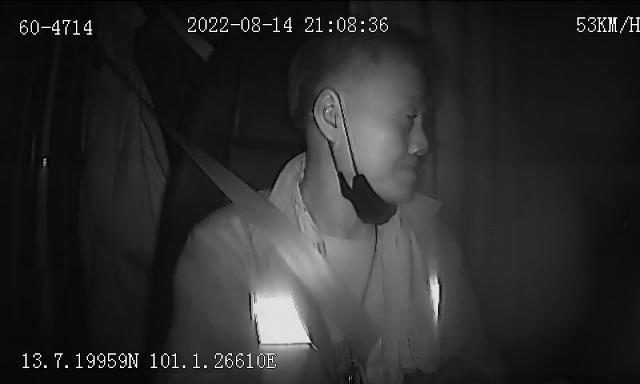Seatbelt: (165, 124, 383, 370)
